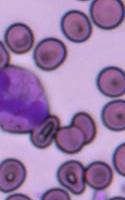E: (1, 66, 50, 132)
